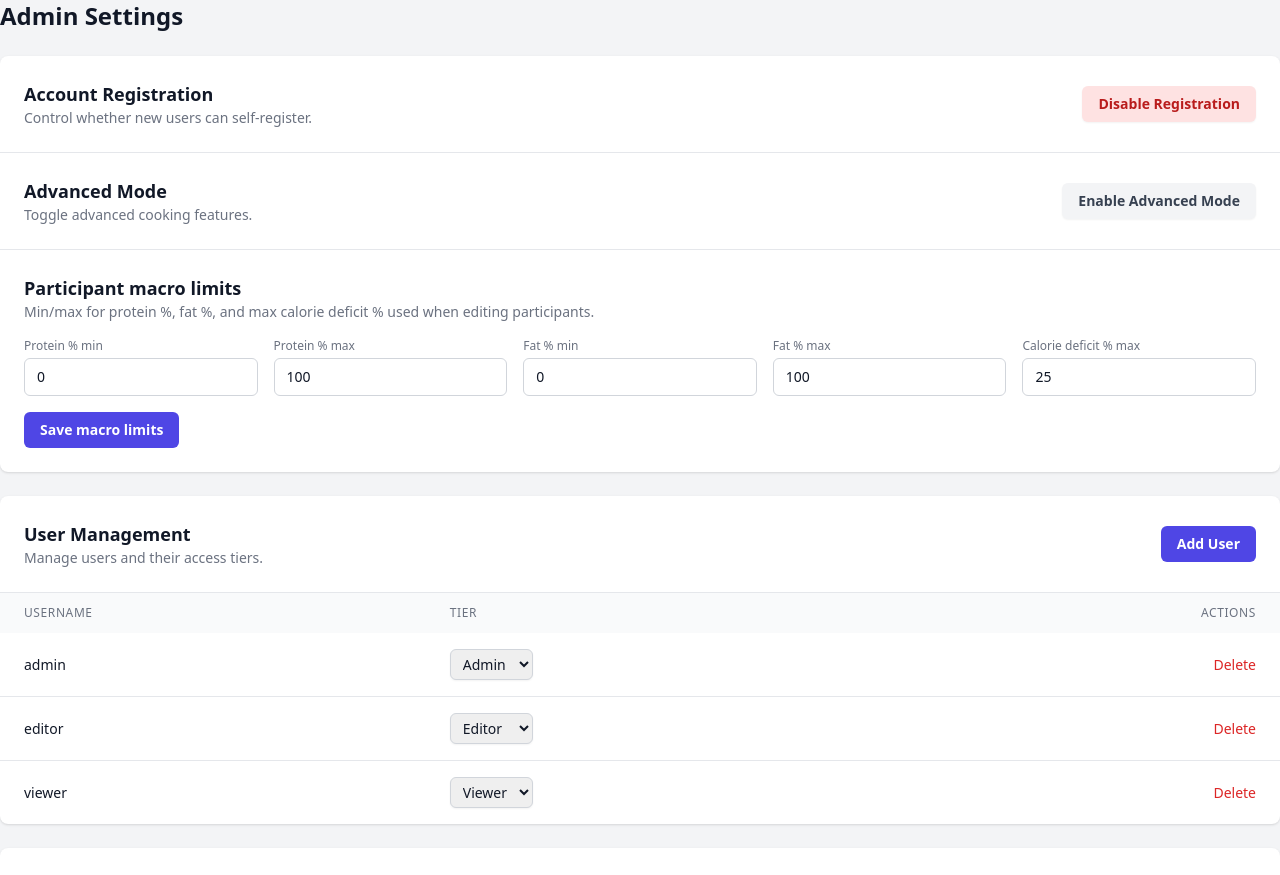
Test: AdminPanel › can cancel user deletion
The width and height of the screenshot is (1280, 875).
expect the text "viewer" is shown: met, box [0,760,426,824]
Click the button "Delete" in the row of "viewer" at point(1235, 792), box [1213,782,1256,802]
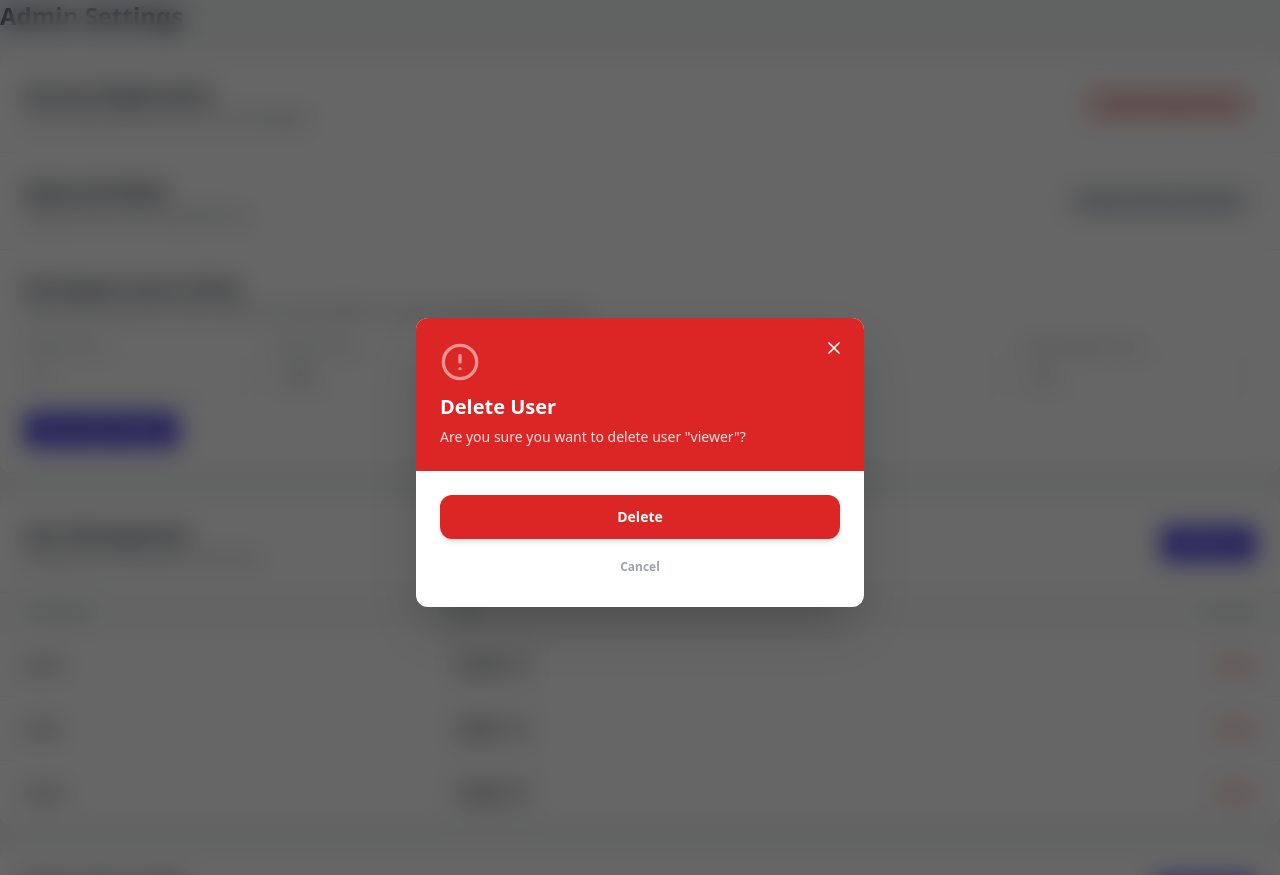
expect the text "Are you sure you want to delete user \"viewer\"?" is shown: met, box [440,426,746,446]
Click the button "Cancel" at point(640, 566), box [440,550,840,582]
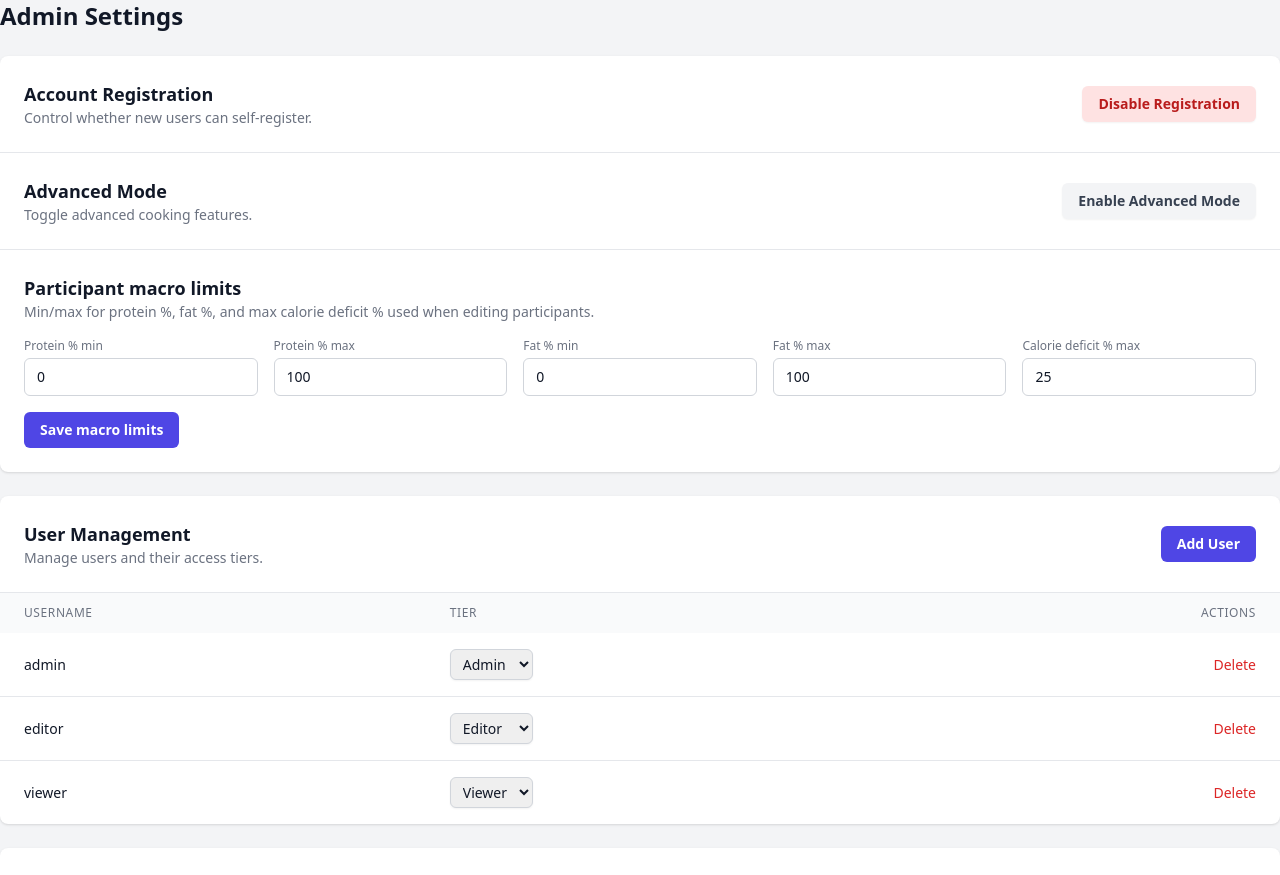
expect the text "Are you sure you want to delete user \"viewer\"?" is gone: met
